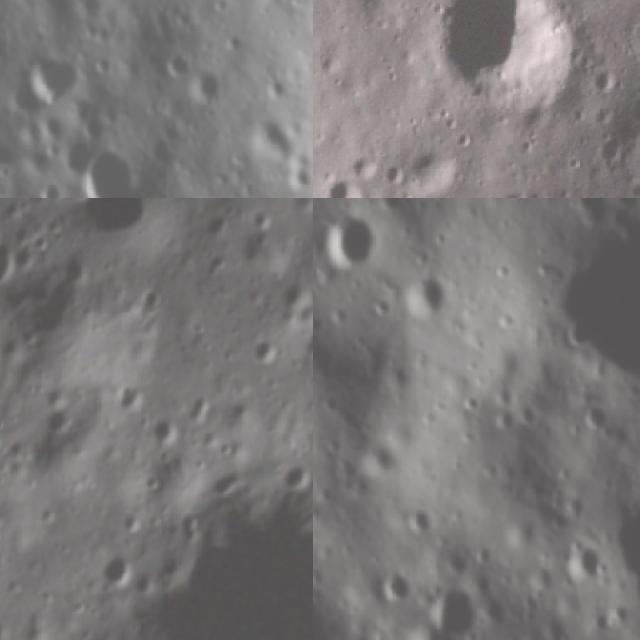crater: (121, 483, 313, 640), (538, 230, 640, 387), (433, 0, 579, 108), (593, 478, 640, 625), (18, 44, 81, 111), (69, 138, 135, 198), (246, 104, 299, 178), (67, 198, 161, 239), (323, 206, 381, 272), (429, 572, 483, 636), (352, 432, 409, 488), (95, 533, 143, 595), (406, 146, 464, 197), (399, 273, 454, 324), (374, 560, 418, 607), (400, 495, 442, 542), (147, 407, 193, 446), (274, 274, 313, 317), (248, 333, 287, 371), (188, 56, 220, 101), (0, 233, 23, 293), (277, 453, 313, 491), (133, 280, 167, 319), (592, 130, 626, 168), (592, 60, 620, 94), (328, 177, 371, 198), (34, 175, 73, 198), (381, 157, 408, 189), (624, 84, 640, 124), (499, 181, 536, 198)
